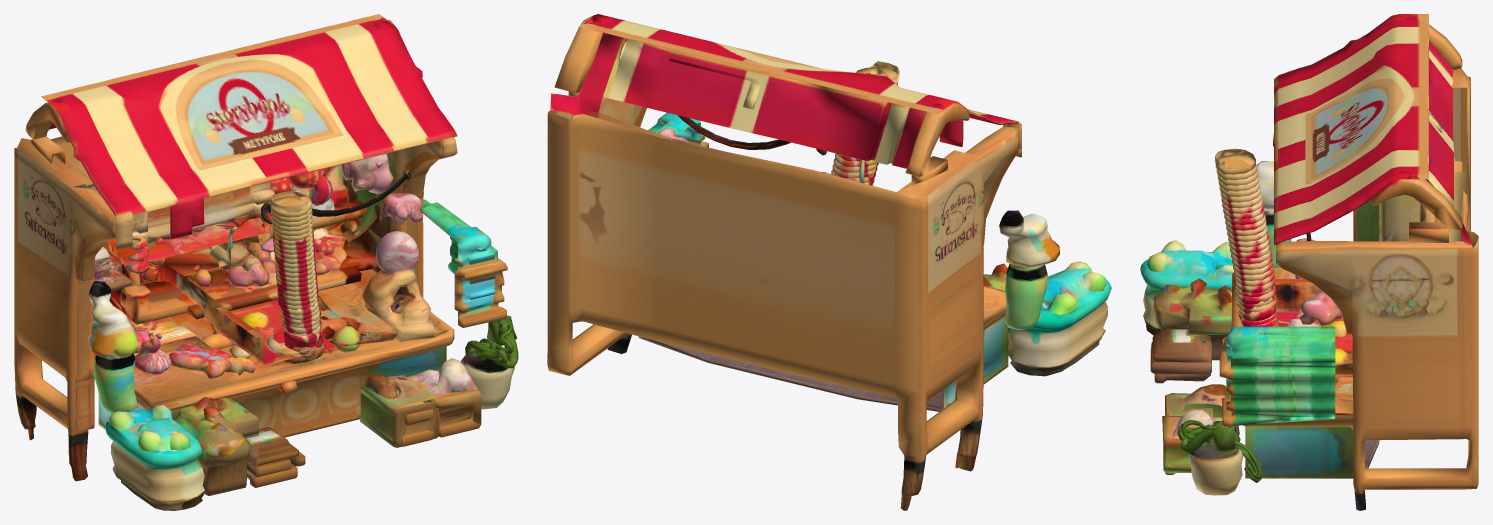
The model's file is prop_market_stall_v1.glb.
The picture shows the model from 3 angles, left to right: view 1: azimuth 30°, elevation 25°; view 2: azimuth 150°, elevation 25°; view 3: azimuth 270°, elevation 25°; orthographic projection. The views are drawn at different scales.
Bounding box in the file's own units: 1.91 × 1.63 × 1.39.
Materials: 1 (1 with a texture image).
